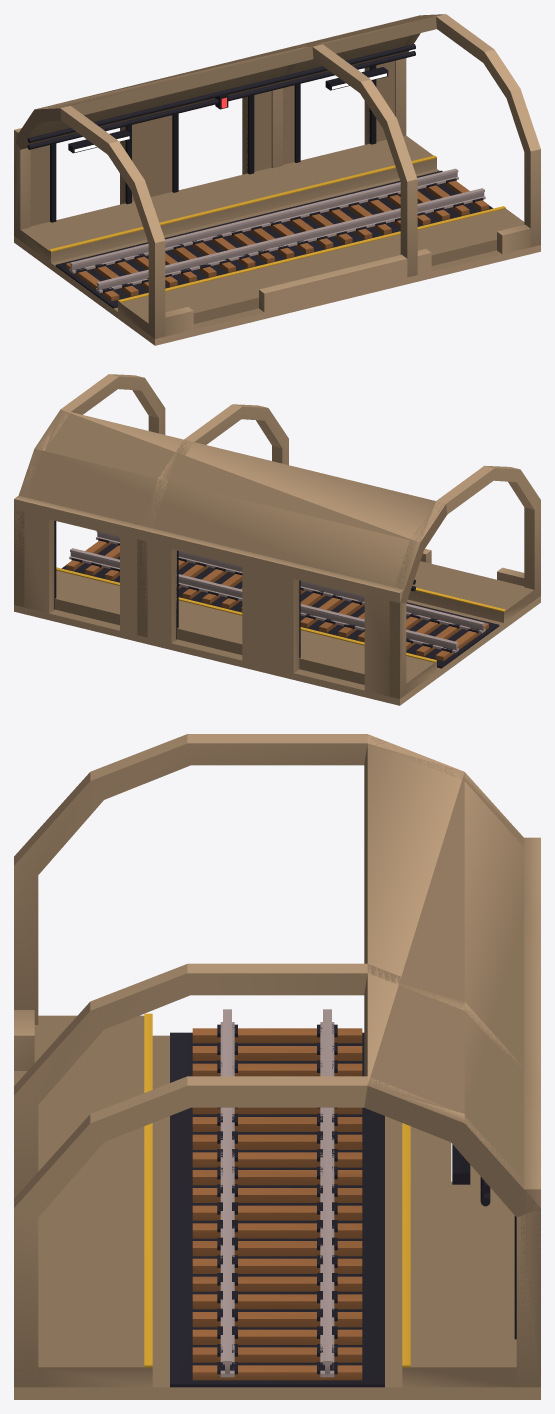
File: kit.metro-tunnel.lod1.glb
The picture shows the model from 3 angles, top to bottom: view 1: azimuth 30°, elevation 25°; view 2: azimuth 150°, elevation 25°; view 3: azimuth 270°, elevation 25°; orthographic projection. The views are drawn at different scales.
Parts seen in each view (by area): view 1: body, roof; view 2: body, roof; view 3: body, roof.
Boxes of the visible parts, x1=… form: body: x1=14, y1=44, x2=540, y2=345; roof: x1=14, y1=14, x2=540, y2=338; body: x1=14, y1=495, x2=540, y2=705; roof: x1=14, y1=374, x2=540, y2=698; body: x1=14, y1=837, x2=540, y2=1399; roof: x1=14, y1=734, x2=540, y2=1387.
Bounding box in the file's own units: 12 × 5 × 7.6.
